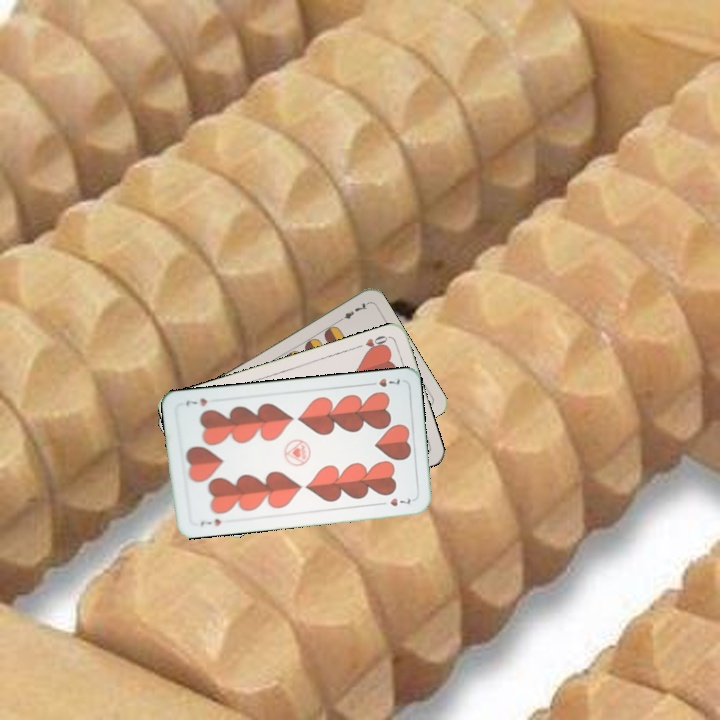E7: (333, 299, 370, 325)
H7: (364, 374, 403, 390), (196, 515, 223, 528)
HO: (352, 331, 391, 355)
